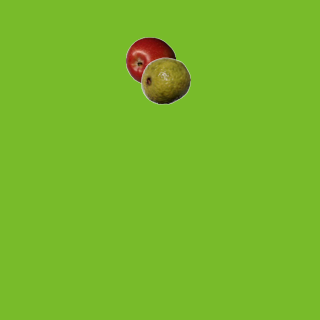Apple Braeburn: (125, 36, 175, 86)
Guava: (140, 55, 190, 105)
